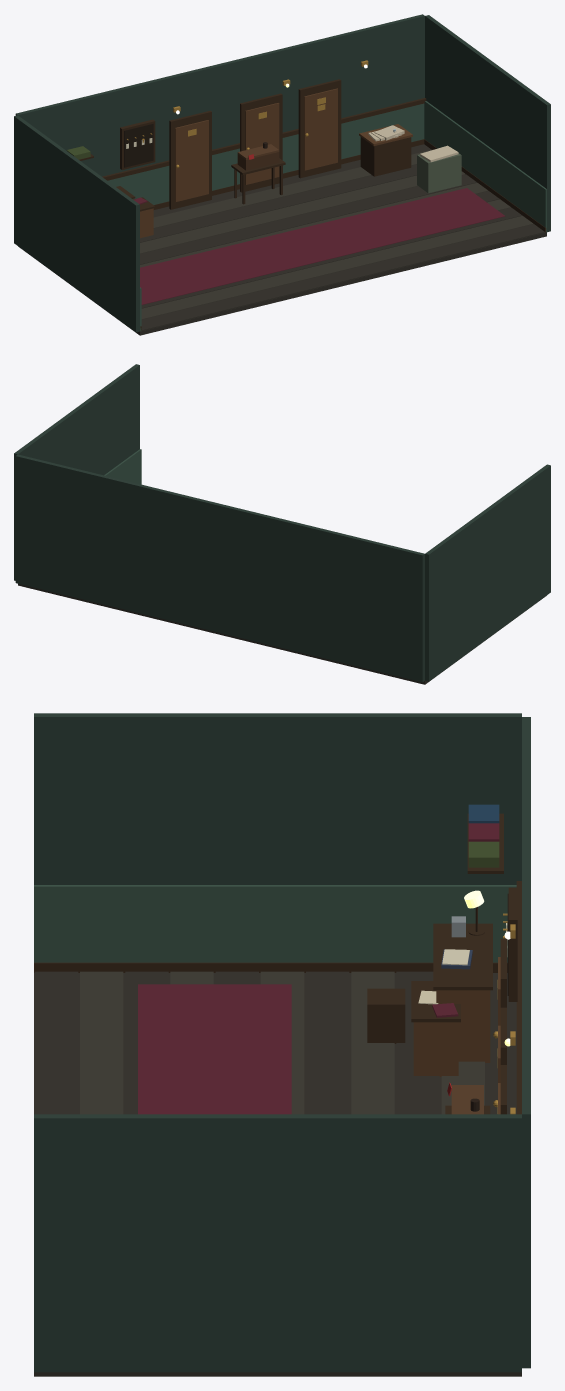
The model's file is sleeper.glb.
3 views of the same model, one above another, from view 1: azimuth 30°, elevation 25°; view 2: azimuth 150°, elevation 25°; view 3: azimuth 270°, elevation 25° (orthographic). The views are drawn at different scales.
Parts seen in each view (by area): view 1: WallBack, WallLeft, Runner, WallRight, BandBack, BandRight, Plank0, Plank1, Plank6, Floor, Plank7, Plank8 (+17 smaller); view 2: WallBack, WallLeft, WallRight, Floor, BandRight; view 3: WallRight, WallLeft, BandLeft, Runner, Floor, Plank0, Plank1, Plank6, WallBack, Plank7, SkirtLeft, CubbyTop (+12 smaller).
Part boxes in pixels (x1,y1,x2,y2): WallBack: [15, 14, 424, 176]; WallLeft: [14, 115, 139, 332]; Runner: [140, 188, 505, 304]; WallRight: [425, 15, 550, 232]; BandBack: [107, 103, 424, 204]; BandRight: [424, 101, 546, 232]; Plank0: [141, 224, 544, 330]; Plank1: [141, 215, 533, 319]; Plank6: [140, 174, 476, 264]; Floor: [18, 144, 546, 335]; Plank7: [140, 171, 465, 253]; Plank8: [140, 164, 416, 242]; WallBack: [15, 454, 424, 682]; WallLeft: [425, 464, 550, 681]; WallRight: [14, 364, 139, 580]; Floor: [18, 583, 546, 684]; BandRight: [104, 449, 141, 484]; WallRight: [34, 1114, 521, 1372]; WallLeft: [34, 713, 521, 884]; BandLeft: [34, 885, 516, 962]; Runner: [138, 984, 291, 1114]; Floor: [34, 973, 521, 1376]; Plank0: [34, 971, 78, 1114]; Plank1: [80, 971, 123, 1114]; Plank6: [306, 971, 349, 1114]; WallBack: [522, 717, 530, 1368]; Plank7: [351, 971, 394, 1114]; SkirtLeft: [34, 962, 507, 972]; CubbyTop: [433, 923, 492, 990].
Size of the model in its own units: 10.6 by 3.2 by 5.5.
